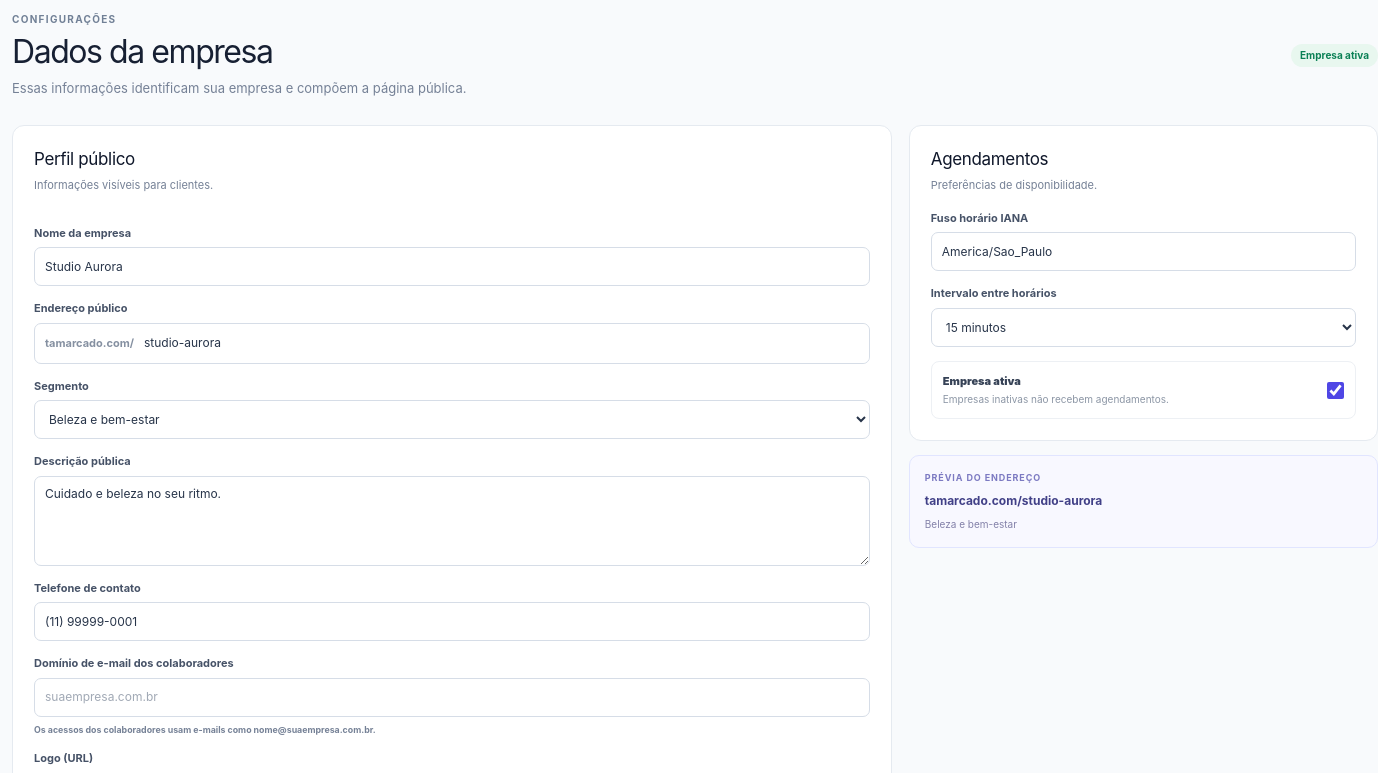
CompanySettingsPage › formats the contact phone while typing
Replace the text in the field labelled "Telefone de contato" with "11988887777" at (452, 622), box [34,602,870,641]
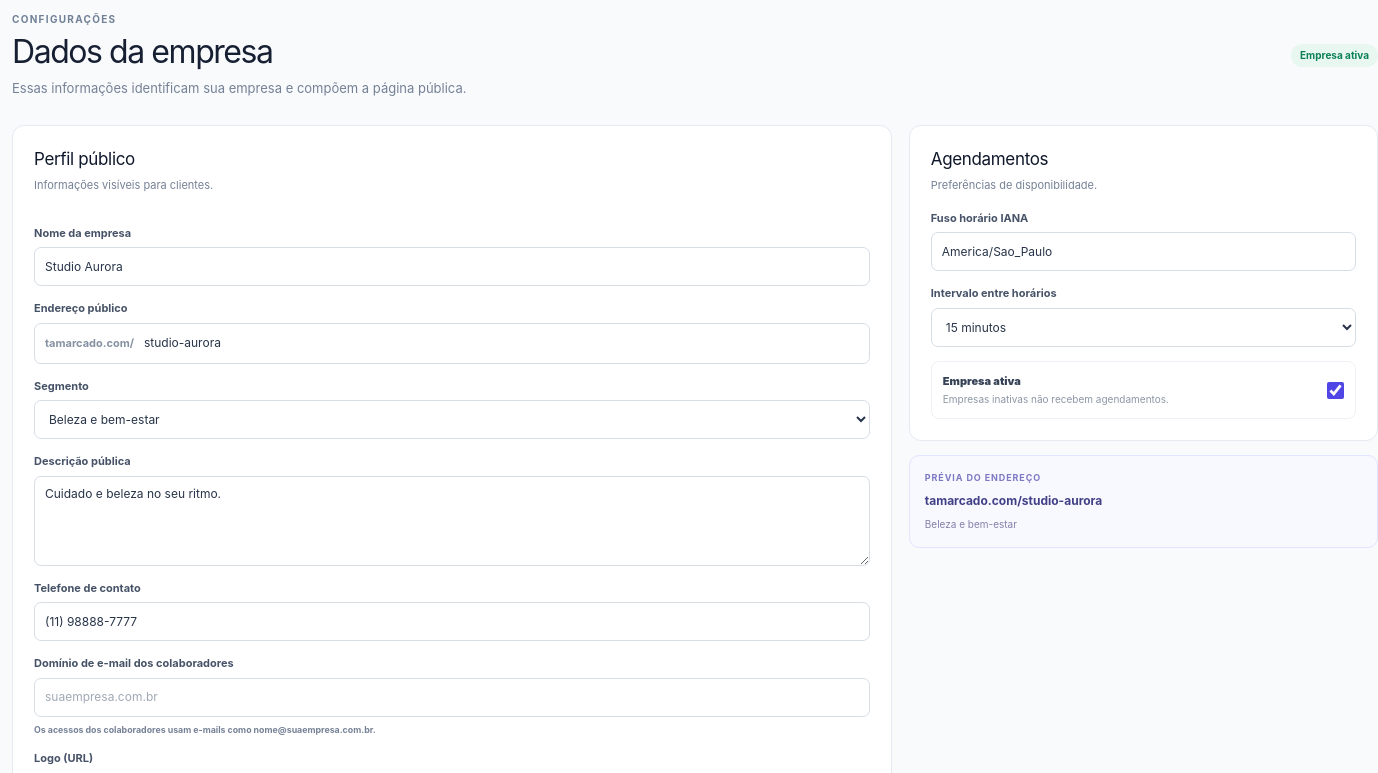
Now the field labelled "Telefone de contato" holds "(11) 98888-7777", box [34,602,870,641]
